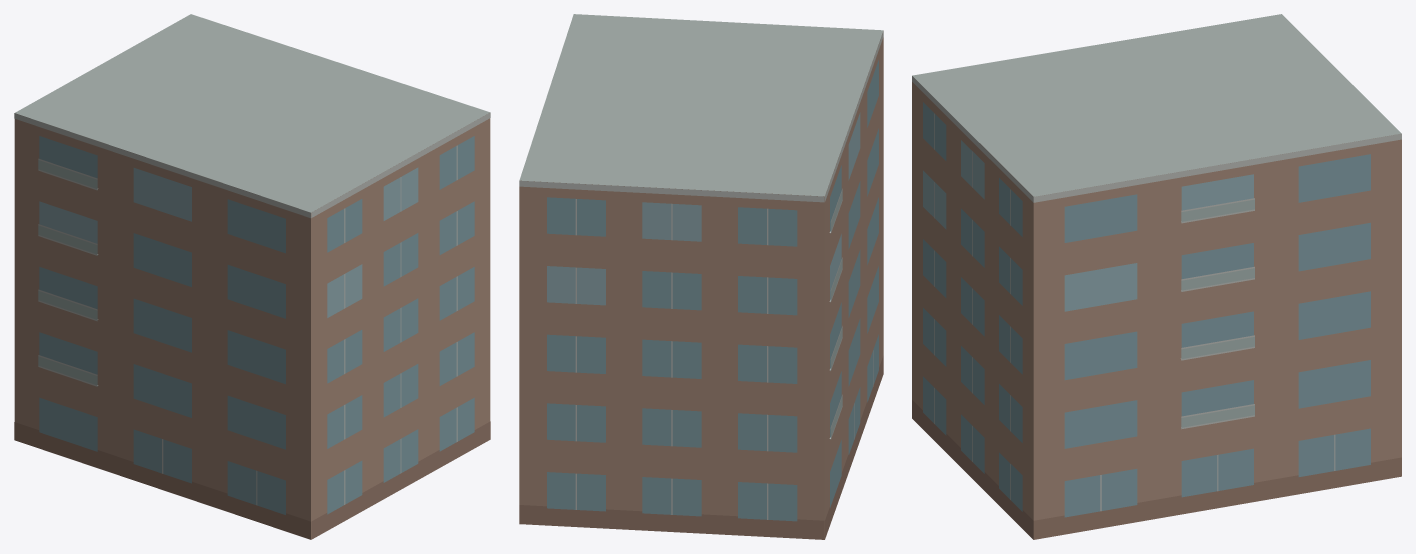
Rendered from survey-upis-32861884.glb.
3 renders of one model, left to right at view 1: azimuth 30°, elevation 25°; view 2: azimuth 150°, elevation 25°; view 3: azimuth 270°, elevation 25°, orthographic. The views are drawn at different scales.
Parts seen in each view (by area): view 1: survey-upis-32861884.tmp; view 2: survey-upis-32861884.tmp; view 3: survey-upis-32861884.tmp.
Part boxes in pixels (box(x1,y1,x2,y2)): survey-upis-32861884.tmp: box(14, 14, 490, 539); survey-upis-32861884.tmp: box(519, 14, 883, 539); survey-upis-32861884.tmp: box(912, 14, 1401, 539).
Bounding box in the file's own units: 16.14 × 14.1 × 18.26.
